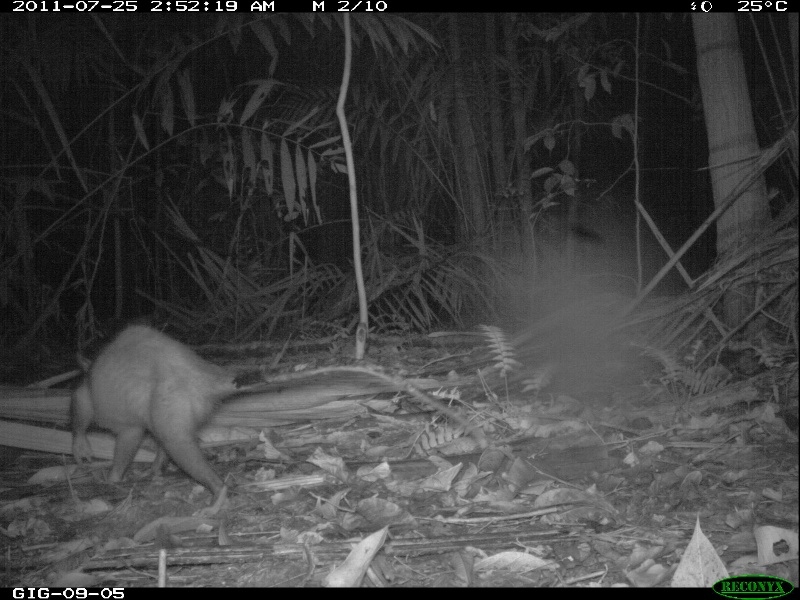opossum: (53, 322, 489, 503)
